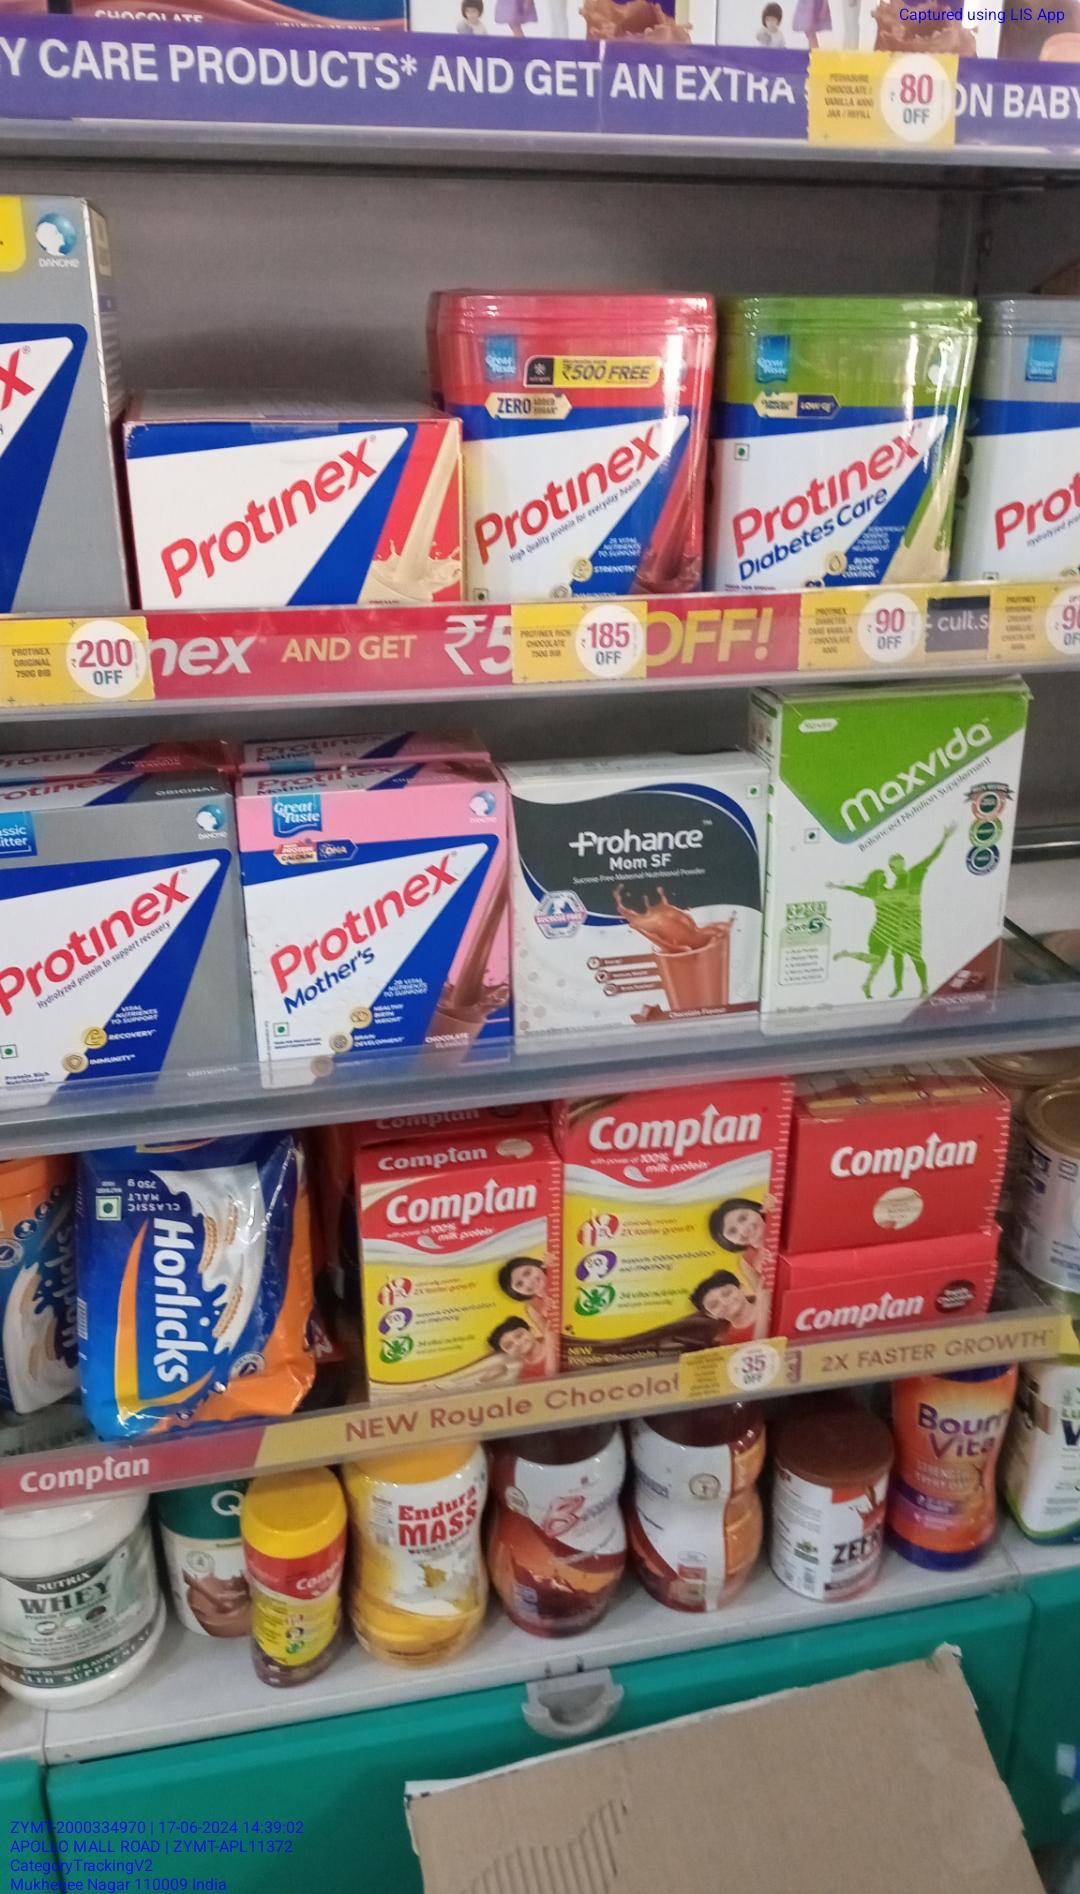BOURN_VITA_500_G_JAR: (902, 1376, 1012, 1569)
COMPLAN_CHOCOLATE_200_GMS_JAR: (245, 1480, 347, 1690)
COMPLAN_CHOCOLATE_500_GMS_PACK: (566, 1103, 774, 1339)
COMPLAN_KESAR_BADAM_200_GMS_PACK: (362, 1179, 557, 1383)
PROTINEX_CHOCOLATE_400_G_JAR: (475, 295, 704, 596)
